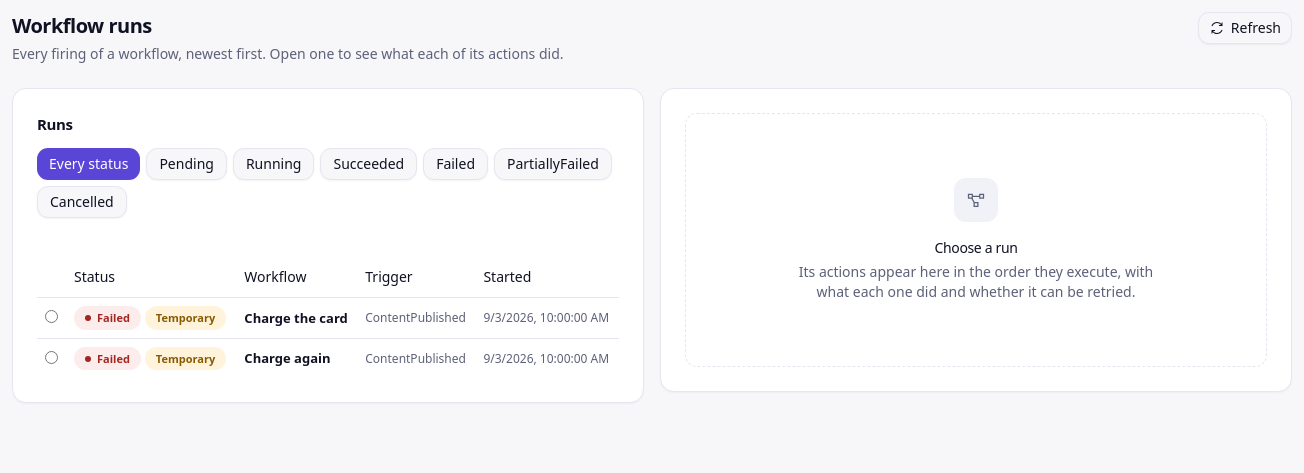
Scenario: a run rolled back, as contract 8 reports it › still offers the retry on a failed run nobody rolled back
Click the radio button named "Charge again" at (52,357), box [45,350,58,364]
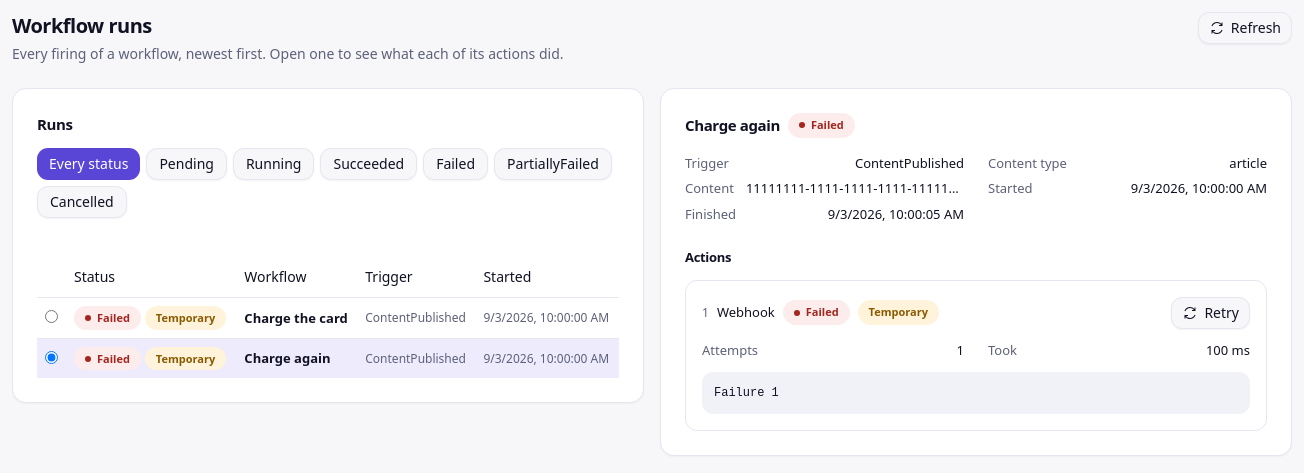
expect the list named "Actions" is shown: met, box [685,280,1267,431]
expect the button with aria-label "Retry action 1" is shown: met, box [1171,296,1250,328]
